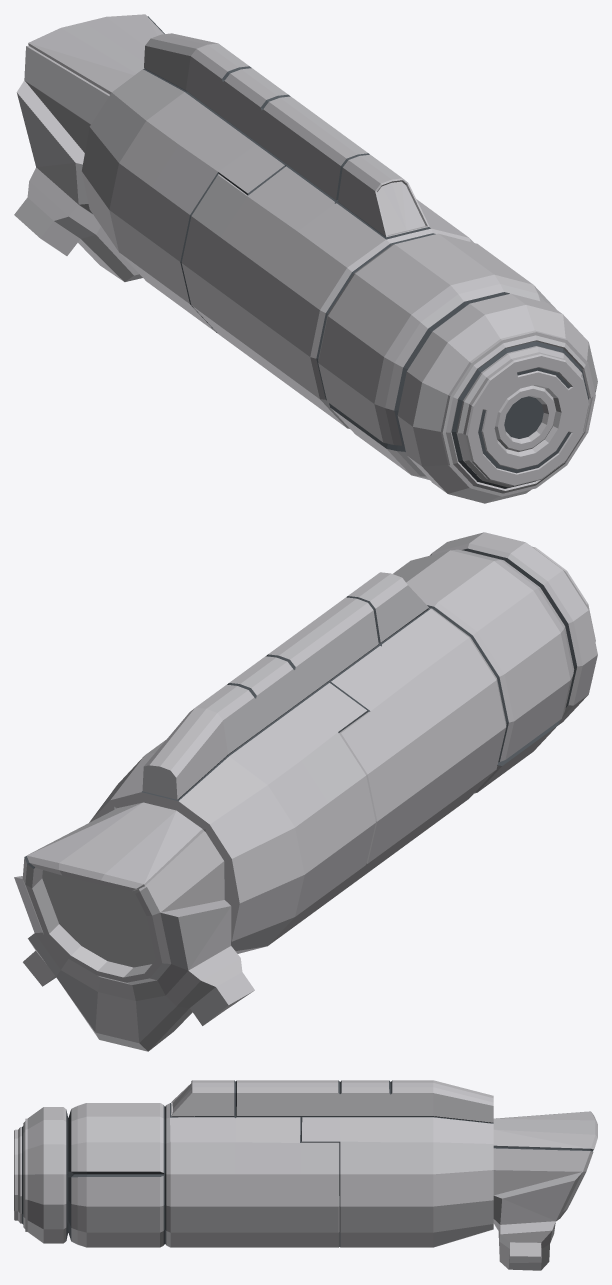
File: Personal_Vehicle_03_Body_Neutral.fbx
3 renders of one model, top to bottom at view 1: azimuth 30°, elevation 25°; view 2: azimuth 150°, elevation 25°; view 3: azimuth 270°, elevation 25°, orthographic. The views are drawn at different scales.
Parts seen in each view (by area): view 1: Personal_Vehicle_03_Body_Neutral; view 2: Personal_Vehicle_03_Body_Neutral; view 3: Personal_Vehicle_03_Body_Neutral.
Boxes of the visible parts, <box> form: Personal_Vehicle_03_Body_Neutral: <box>14,14,597,503</box>; Personal_Vehicle_03_Body_Neutral: <box>14,532,597,1051</box>; Personal_Vehicle_03_Body_Neutral: <box>14,1080,597,1270</box>.
Size of the model in its own units: 78.2 by 98.69 by 290.
2 materials, 2 textured.
